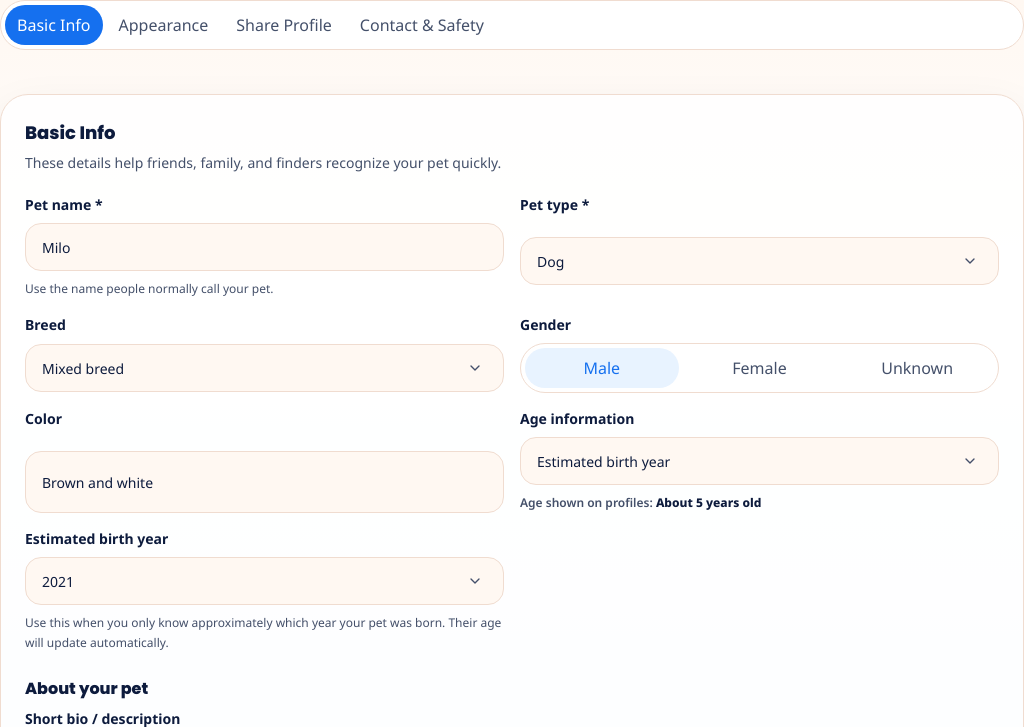
Scenario: PetProfileForm lifecycle workflow › initializes the Appearance tab from the saved profile theme
Click the tab "Appearance" at (163, 25), box top-left (106, 5), bottom-right (220, 45)
(page scrolled)
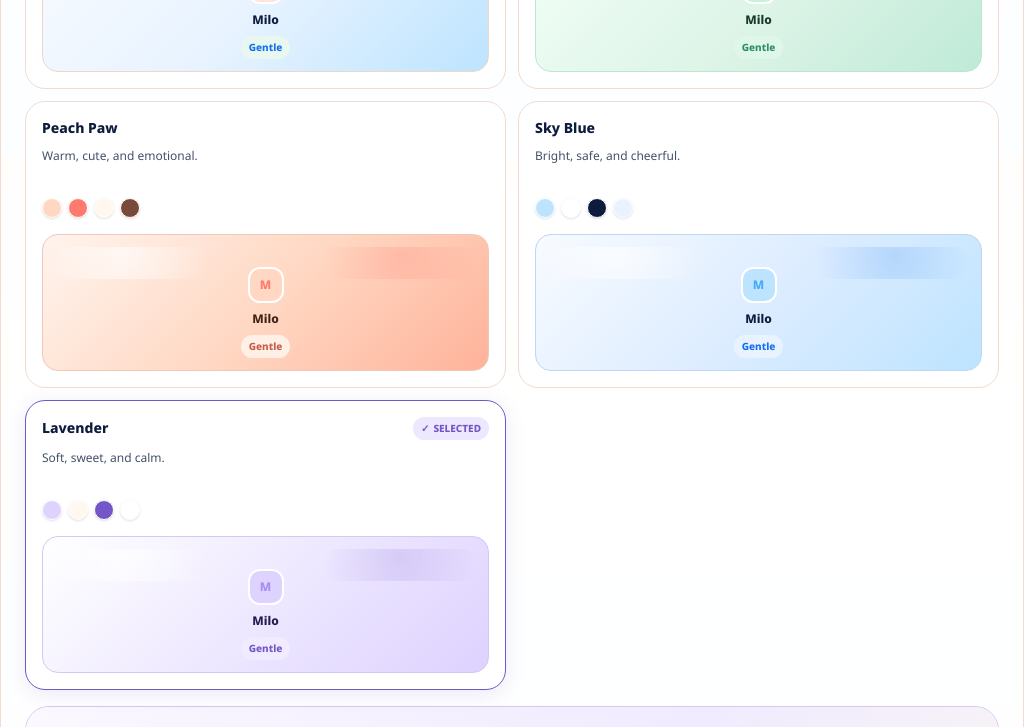
Now the radio button labelled "Lavender ✓ Selected Soft, sweet, and calm. M Milo Gentle" is checked, box top-left (25, 400), bottom-right (506, 690)
Now the text "Selected" is shown, box top-left (433, 421), bottom-right (481, 435)
